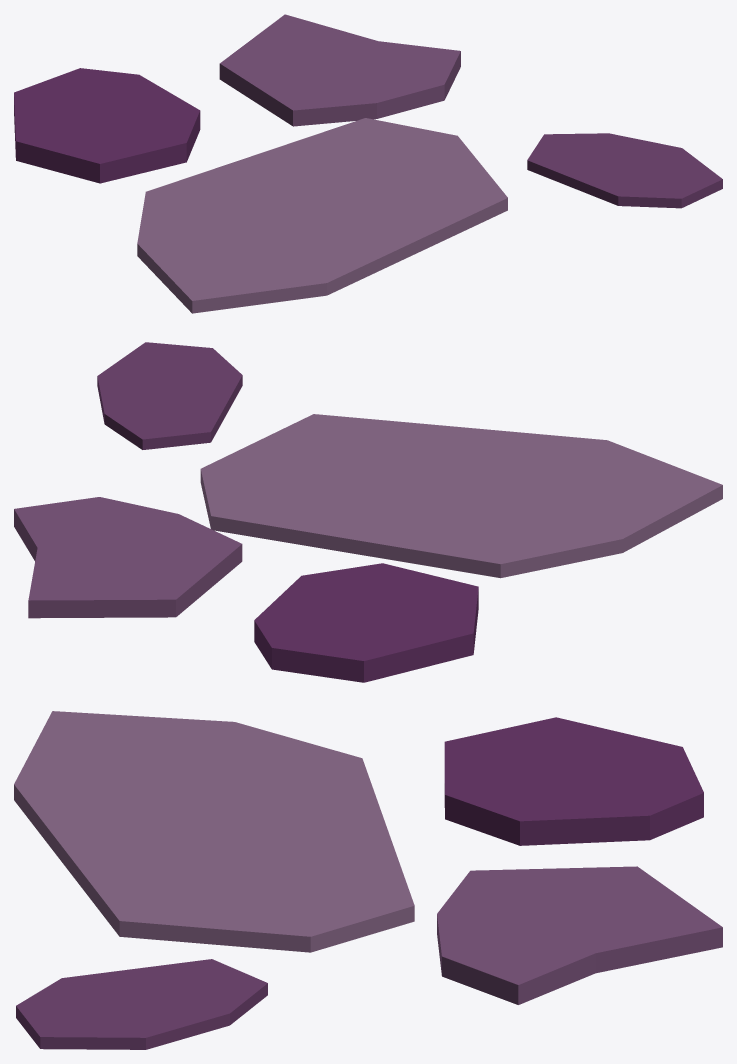
The model's file is VL_Stone03.fbx.
3 renders of one model, top to bottom at view 1: azimuth 30°, elevation 25°; view 2: azimuth 150°, elevation 25°; view 3: azimuth 270°, elevation 25°, orthographic. The views are drawn at different scales.
Visible parts, largest first — view 1: VL_Stone03; view 2: VL_Stone03; view 3: VL_Stone03.
Part boxes in pixels (left/top/right/bottom): VL_Stone03: left=14, top=14, right=722, bottom=313; VL_Stone03: left=14, top=342, right=722, bottom=682; VL_Stone03: left=14, top=711, right=722, bottom=1049.
Bounding box in the file's own units: 34.04 × 1.21 × 31.57.
1 material, 1 textured.
